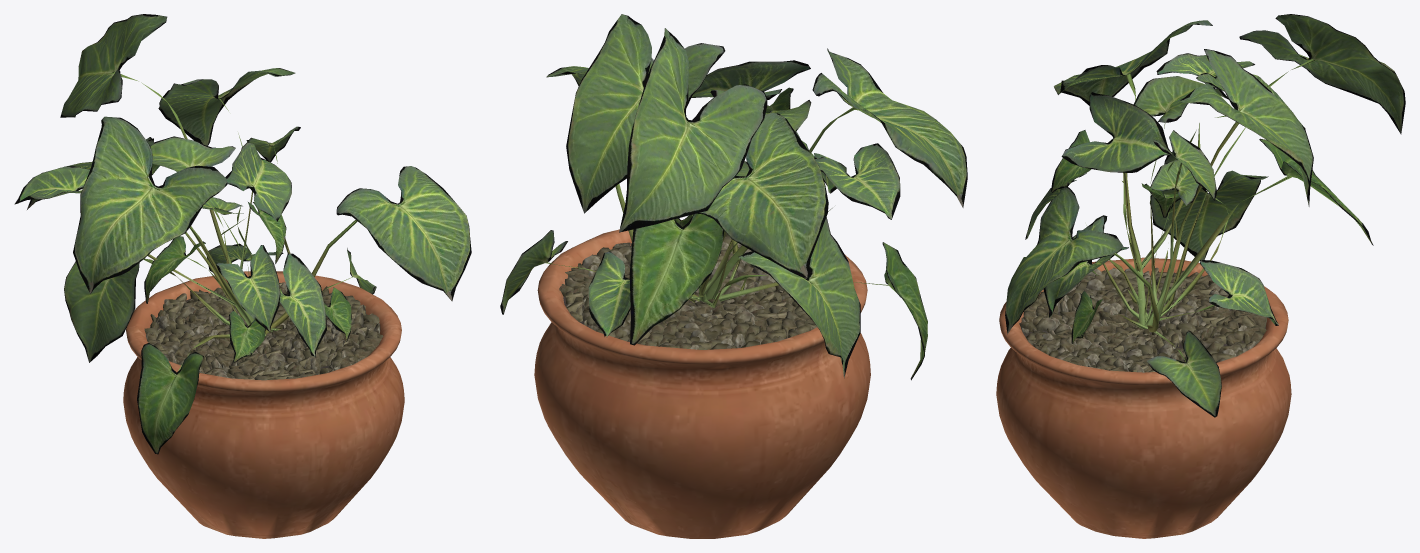
The model's file is potted_plant_02.glb.
3 renders of one model, left to right at view 1: azimuth 30°, elevation 25°; view 2: azimuth 150°, elevation 25°; view 3: azimuth 270°, elevation 25°, orthographic. The views are drawn at different scales.
Parts seen in each view (by area): view 1: potted_plant_02_leaves, potted_plant_02_pot; view 2: potted_plant_02_leaves, potted_plant_02_pot; view 3: potted_plant_02_pot, potted_plant_02_leaves.
Part boxes in pixels (x1,y1,x2,y2): potted_plant_02_leaves: [14, 14, 471, 454]; potted_plant_02_pot: [123, 271, 404, 538]; potted_plant_02_leaves: [500, 14, 967, 380]; potted_plant_02_pot: [534, 220, 870, 538]; potted_plant_02_pot: [996, 257, 1291, 538]; potted_plant_02_leaves: [1005, 14, 1405, 417].
Bounding box in the file's own units: 0.7009 × 0.8401 × 0.6574.
Materials: 2 (2 with a texture image).
